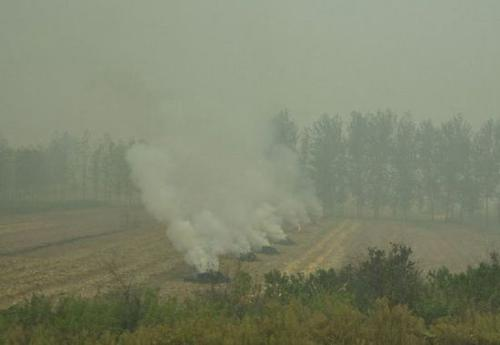smoke: (131, 86, 309, 255)
